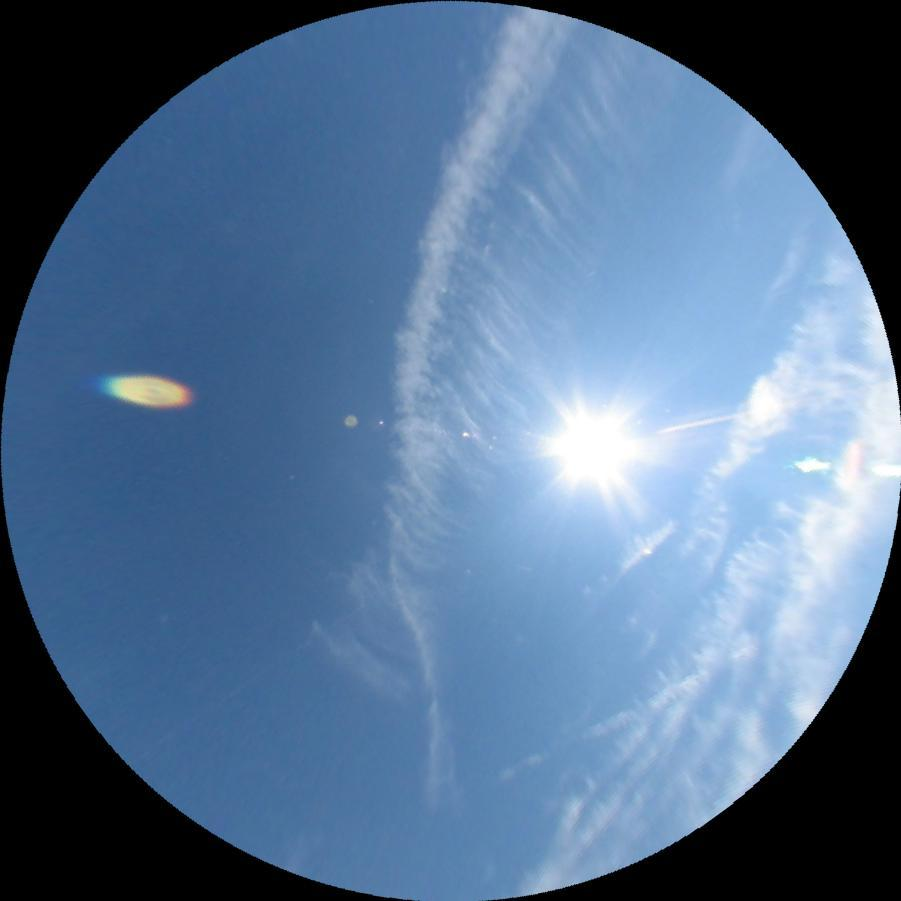contrail old: (495, 643, 756, 785)
contrail veryold: (283, 15, 686, 704), (319, 0, 577, 814), (709, 119, 769, 204)
parasite: (654, 408, 744, 435)
sun: (542, 397, 638, 494)
